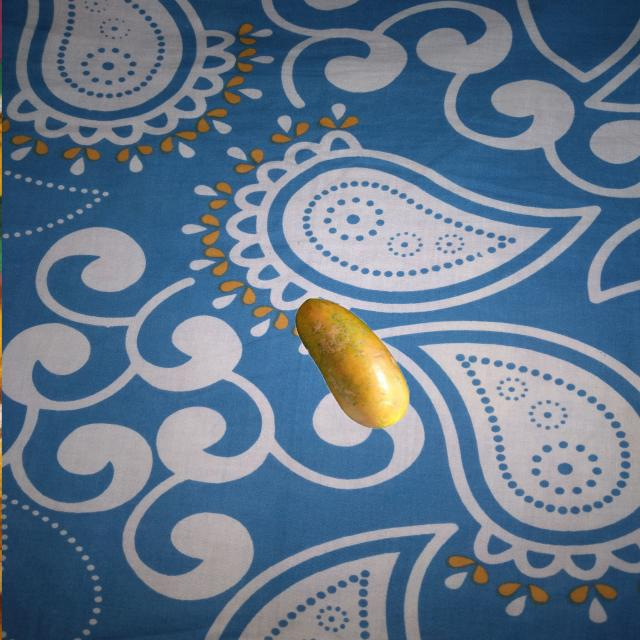Pepaya rippen: (289, 290, 418, 434)
